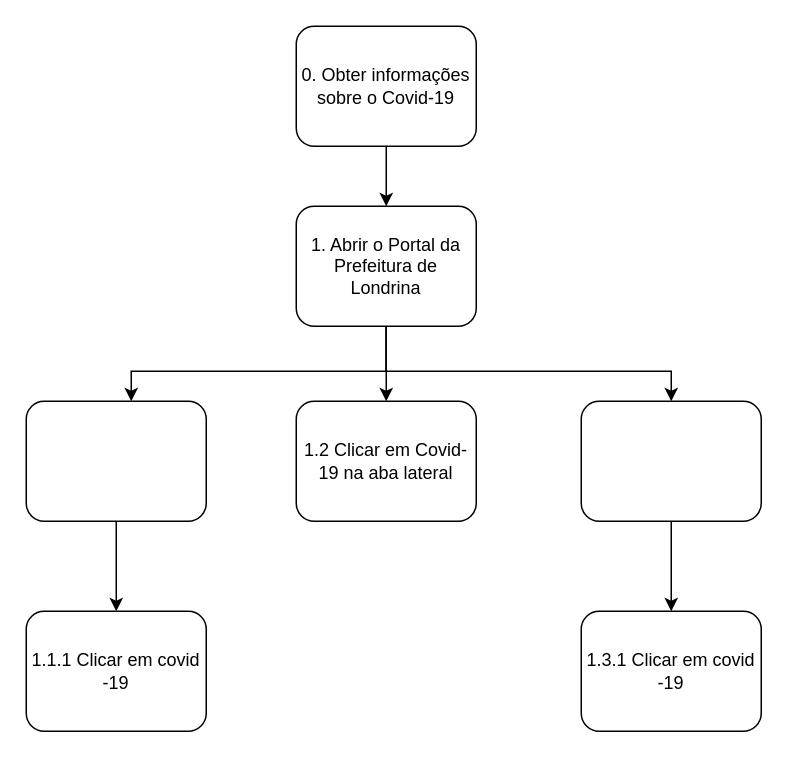
The diagram is 788 pixels wide and 758 high, and some of its shapes have lost their labels. Here are the shapes that lost their labels. From the top down, the box of each, then its label:
(25, 400, 206, 521): 1.1 Clicar em Portal da Transparência na aba de navegação no topo da página
(580, 400, 761, 521): 1.3 Clicar em Portal da Transparência na aba de navegação lateral
